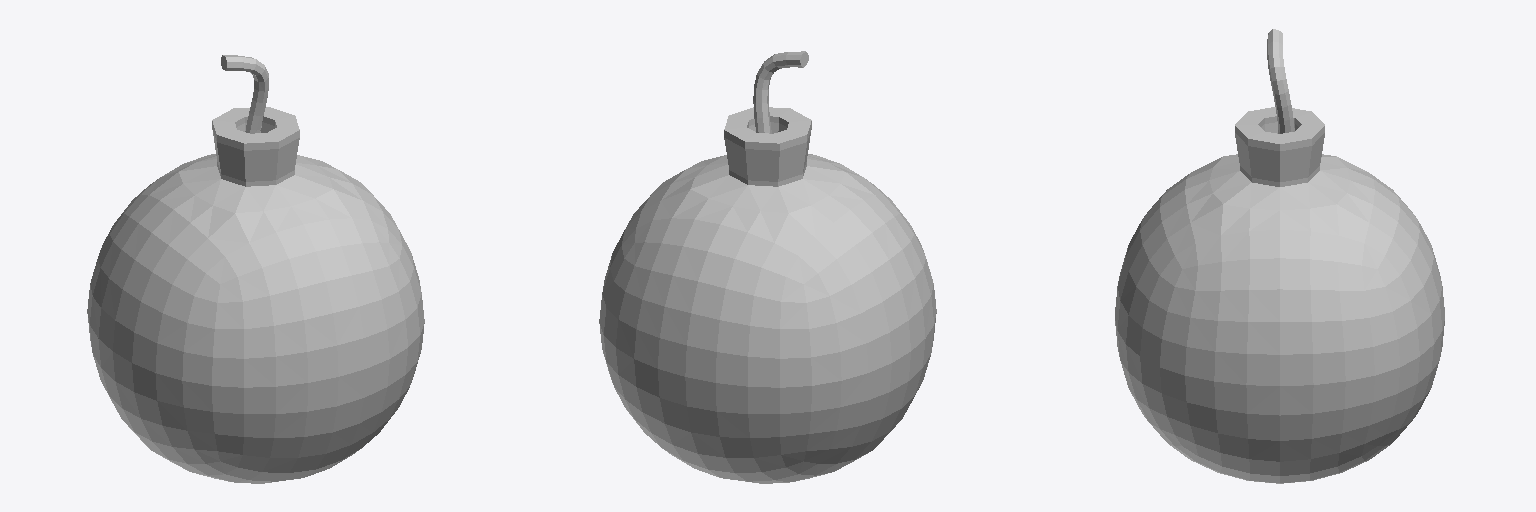
File: Bomb2.obj
The picture shows the model from 3 angles: view 1: azimuth 30°, elevation 25°; view 2: azimuth 150°, elevation 25°; view 3: azimuth 270°, elevation 25°; orthographic projection.
Visible parts, largest first — view 1: Bomb; view 2: Bomb; view 3: Bomb.
Boxes of the visible parts, x1=… form: Bomb: x1=87, y1=55, x2=424, y2=483; Bomb: x1=599, y1=51, x2=936, y2=483; Bomb: x1=1115, y1=29, x2=1444, y2=483.
Bounding box in the file's own units: 0.27 × 0.379 × 0.27.